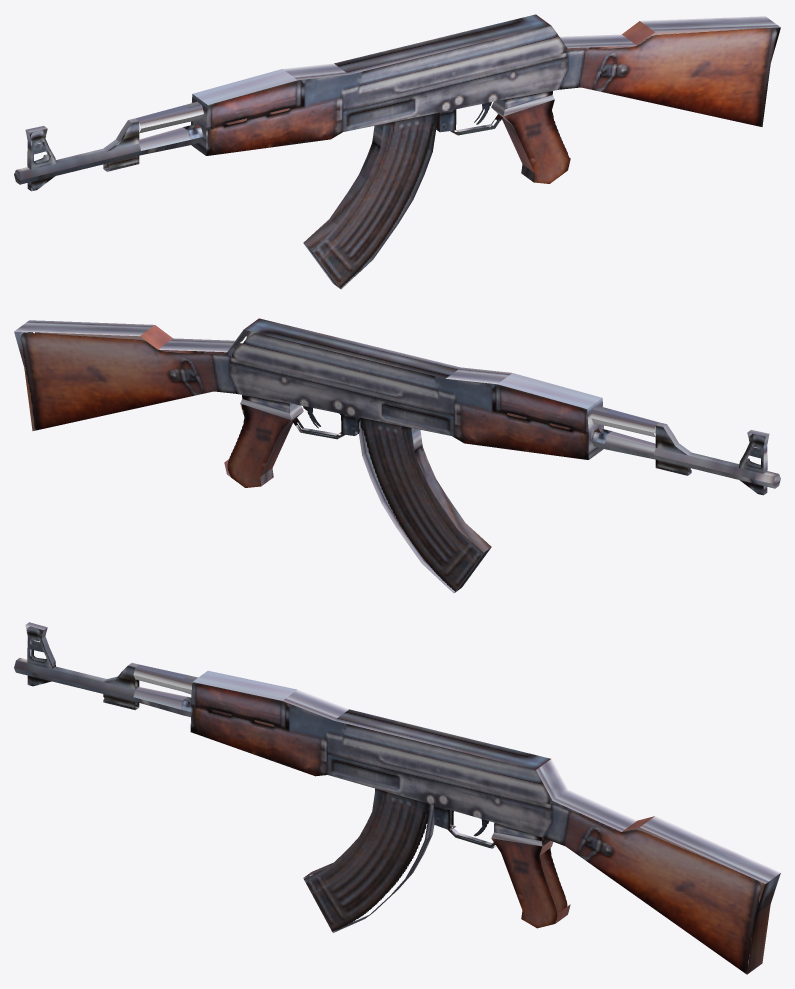
3 renders of one model, top to bottom at view 1: azimuth 30°, elevation 25°; view 2: azimuth 150°, elevation 25°; view 3: azimuth 330°, elevation 25°, orthographic.
Visible parts, largest first — view 1: ak47; view 2: ak47; view 3: ak47.
Boxes of the visible parts, x1=… form: ak47: x1=14, y1=14, x2=780, y2=289; ak47: x1=14, y1=318, x2=780, y2=593; ak47: x1=14, y1=622, x2=780, y2=974.
Size of the model in its own units: 458 by 134 by 16.24.
